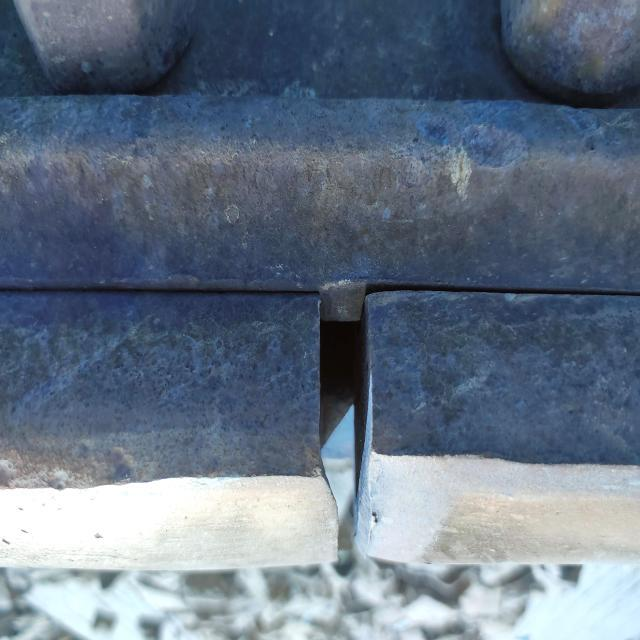railway_join_bar_defects_low: (308, 276, 384, 566)
